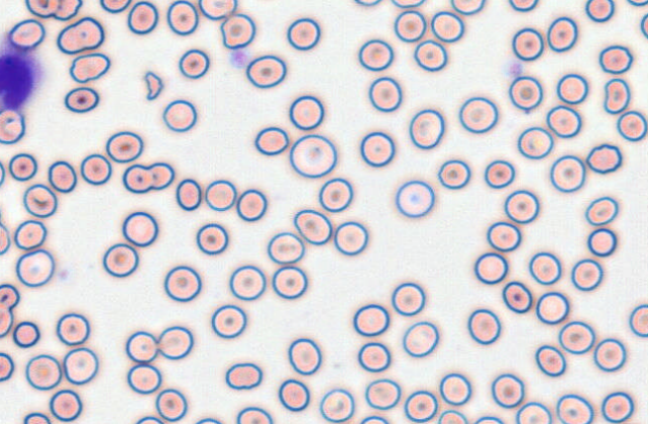GRAN: (0, 49, 37, 110)
PLT: (228, 50, 249, 70), (505, 62, 525, 77)
RBC: (289, 133, 337, 178), (56, 16, 104, 54), (15, 248, 54, 287), (394, 179, 434, 217), (458, 96, 498, 133), (408, 108, 444, 149), (293, 208, 332, 245), (163, 265, 201, 302), (62, 346, 98, 385), (245, 54, 286, 88), (25, 353, 62, 390), (402, 320, 439, 357), (549, 154, 585, 192), (121, 211, 158, 247), (229, 264, 266, 300), (359, 130, 395, 167), (219, 13, 255, 49), (288, 94, 324, 130), (102, 242, 139, 277), (287, 337, 321, 375), (69, 52, 110, 83), (508, 75, 543, 111), (503, 189, 539, 224), (467, 308, 501, 345), (558, 320, 595, 354), (105, 130, 143, 163), (267, 231, 305, 264), (318, 177, 353, 212), (333, 220, 368, 255), (157, 325, 193, 359), (210, 304, 246, 338), (271, 265, 307, 299), (368, 76, 402, 112), (352, 303, 389, 336), (7, 18, 45, 50), (490, 373, 524, 408), (546, 104, 581, 138), (319, 388, 354, 422), (22, 183, 57, 217), (391, 281, 425, 316), (517, 126, 553, 159), (357, 38, 393, 71), (364, 378, 401, 410), (403, 389, 438, 422), (593, 337, 626, 372), (473, 251, 508, 284), (55, 312, 90, 345), (162, 99, 197, 132), (585, 143, 622, 174), (555, 393, 593, 423), (535, 291, 569, 324), (511, 27, 544, 61), (528, 251, 561, 285), (286, 17, 320, 50), (166, 0, 198, 35), (486, 220, 521, 252), (546, 16, 577, 52), (393, 9, 426, 42), (277, 378, 310, 411), (125, 330, 158, 363), (195, 222, 228, 255), (438, 372, 471, 405), (570, 258, 603, 291), (413, 39, 447, 71), (430, 10, 464, 42), (600, 391, 634, 423), (126, 363, 161, 394), (225, 361, 262, 390), (49, 389, 82, 421), (155, 388, 187, 421), (204, 179, 237, 211), (357, 341, 391, 372), (127, 0, 158, 34), (584, 195, 618, 226), (598, 44, 633, 74), (534, 344, 566, 376), (501, 280, 532, 313), (13, 219, 46, 250), (236, 188, 267, 221), (254, 126, 289, 155), (556, 73, 588, 104), (80, 153, 111, 185), (47, 160, 77, 193), (437, 159, 470, 189), (616, 110, 647, 141), (178, 48, 209, 79), (64, 86, 99, 113), (122, 163, 153, 193), (484, 159, 515, 189), (0, 108, 25, 144), (587, 227, 617, 257), (175, 178, 202, 211), (8, 152, 37, 181), (515, 401, 551, 423), (12, 320, 40, 348), (147, 161, 174, 190), (198, 0, 236, 20), (584, 0, 614, 22), (628, 303, 647, 337), (236, 406, 273, 423), (24, 0, 58, 18), (53, 0, 82, 20), (450, 0, 485, 15), (0, 283, 20, 309), (0, 303, 13, 337), (0, 351, 14, 382), (437, 409, 468, 423), (99, 0, 131, 13), (508, 0, 538, 12), (23, 411, 51, 423), (0, 222, 10, 254), (390, 0, 425, 8), (473, 415, 504, 423), (134, 415, 164, 423), (359, 415, 389, 423), (193, 416, 223, 423), (640, 12, 647, 39), (353, 0, 382, 6), (0, 160, 5, 186), (626, 0, 647, 6)
Schistocyte: (605, 78, 629, 115), (142, 72, 163, 102)
